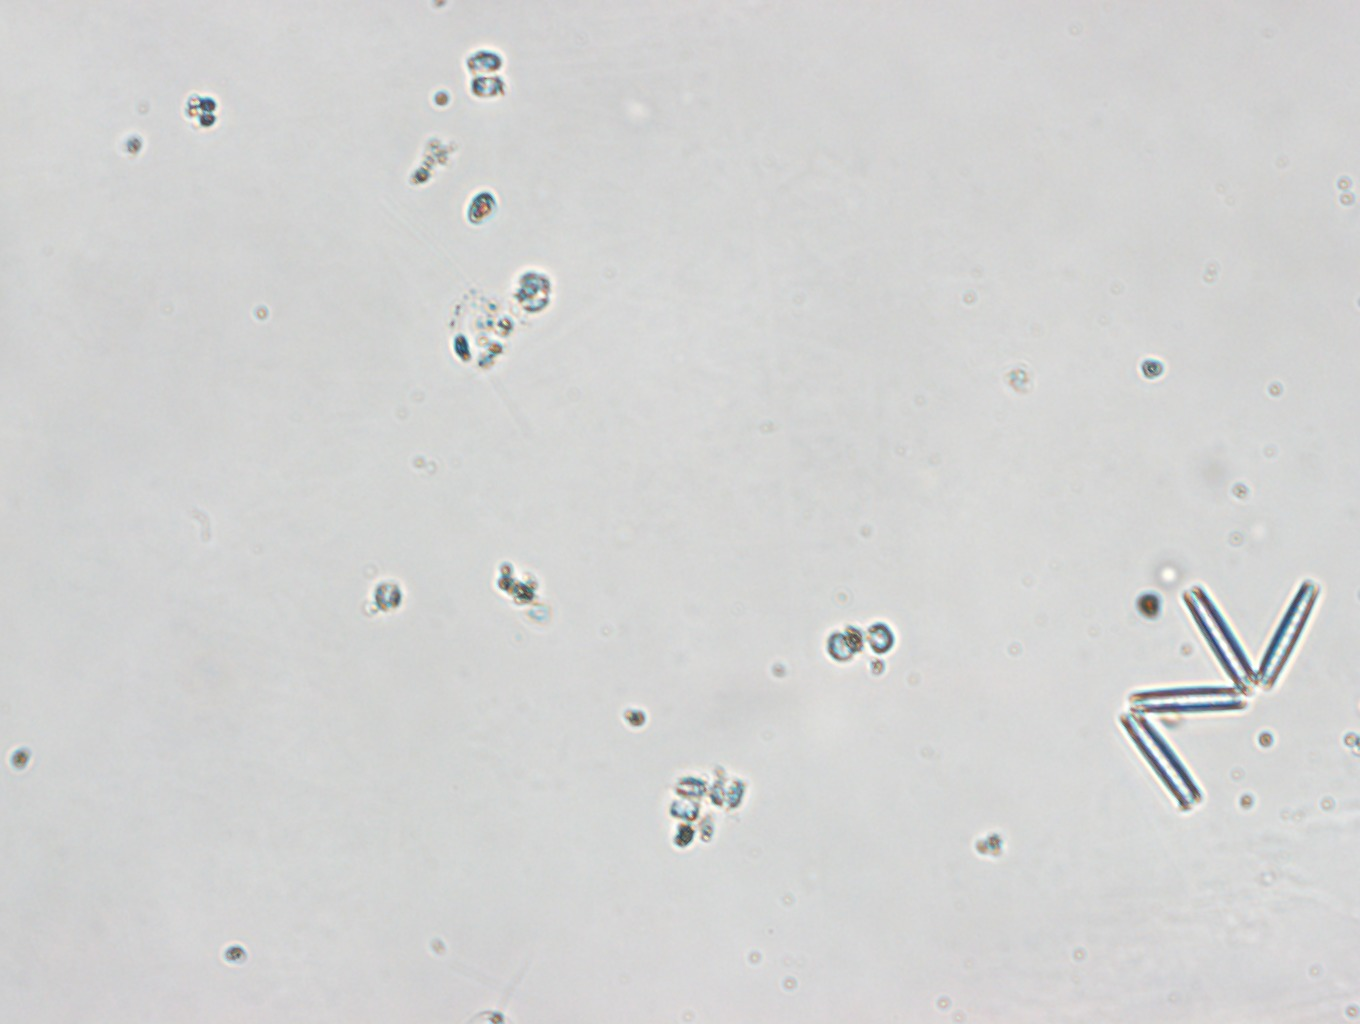thalassionema nitzschioides: (1117, 575, 1319, 814)
